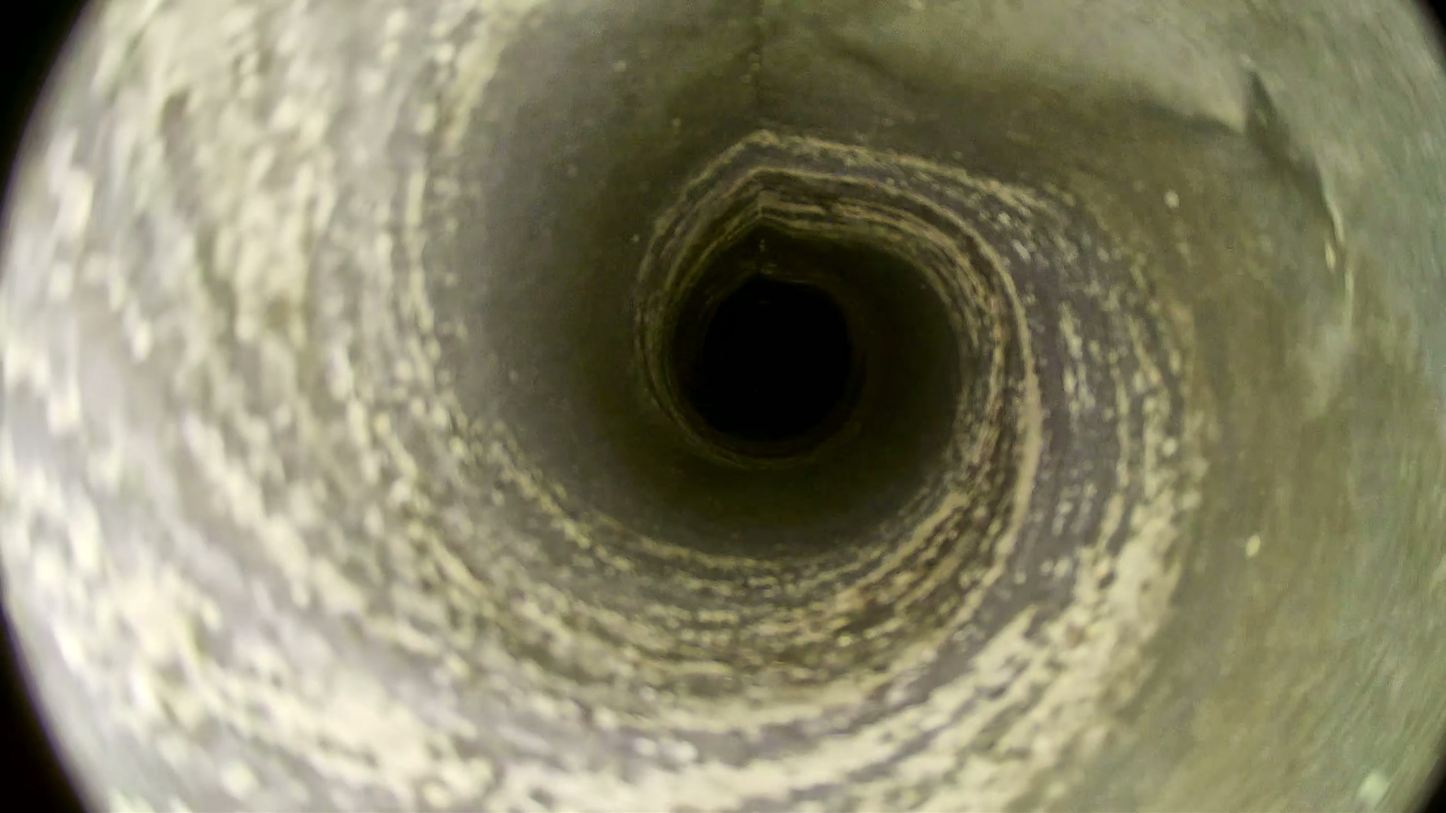hole: (704, 285, 850, 433)
